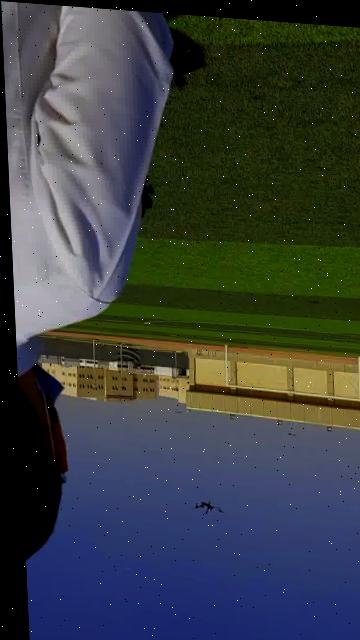drone: (179, 493, 220, 516)
